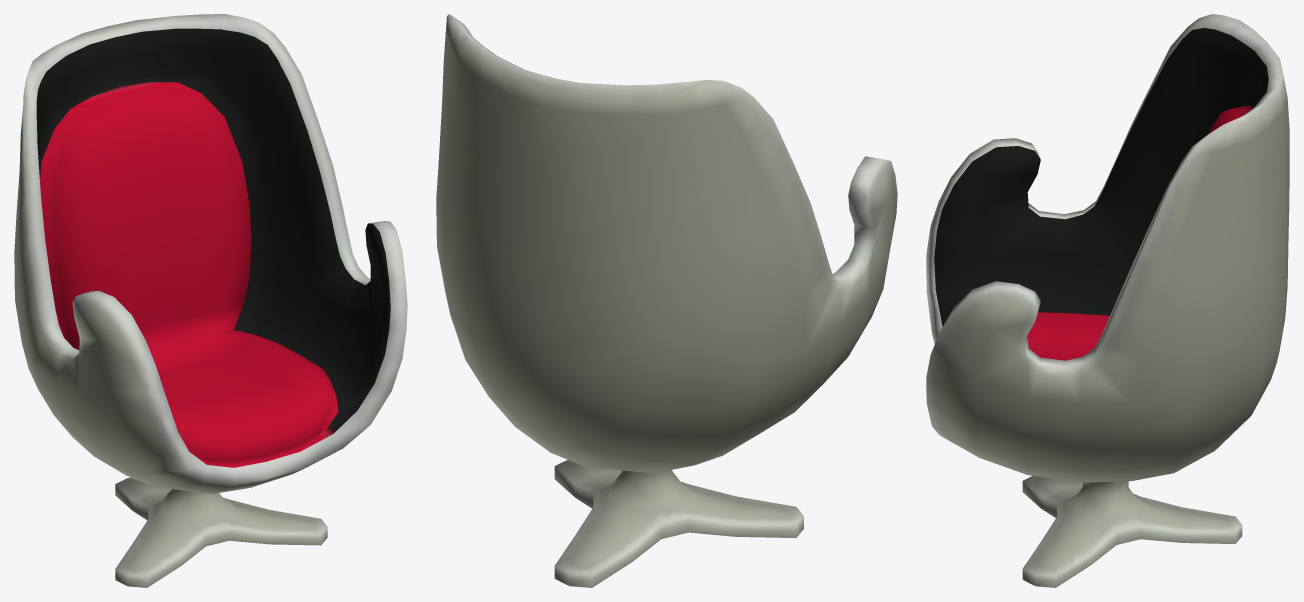
3 renders of one model, left to right at view 1: azimuth 30°, elevation 25°; view 2: azimuth 150°, elevation 25°; view 3: azimuth 270°, elevation 25°, orthographic. The views are drawn at different scales.
Size of the model in its own units: 10 by 14.02 by 9.89.
2 materials, 2 textured.
